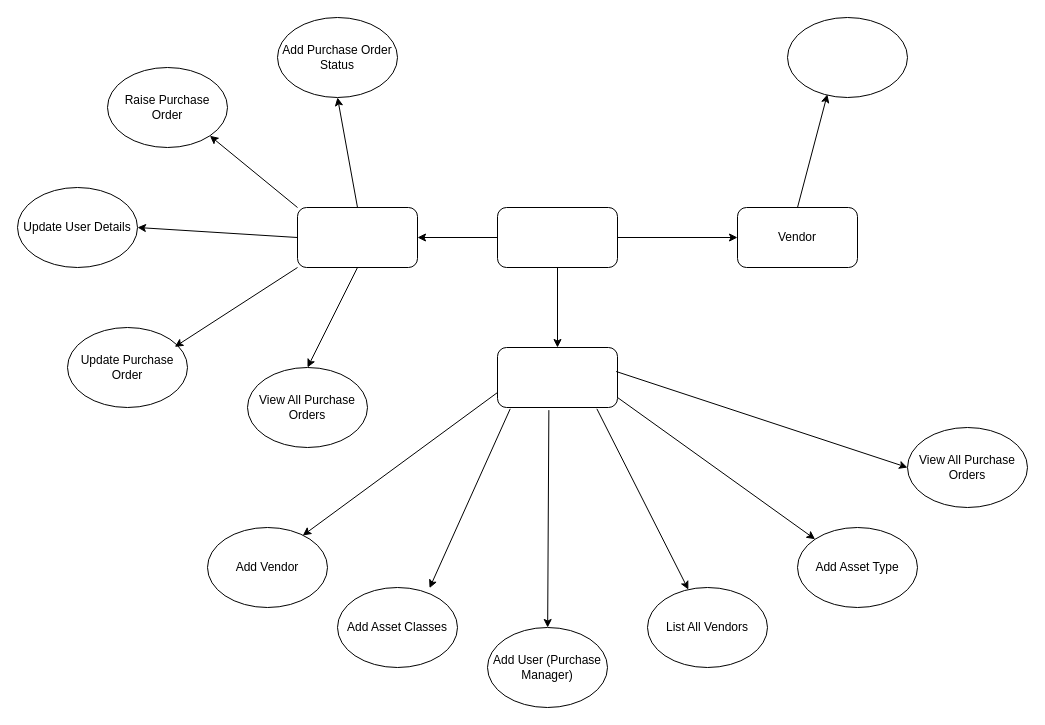
The diagram is 1045 pixels wide and 725 high, and some of its shapes have lost their labels. The shapes that lost their labels are listed below. From the top down, each one's centre as x and y in pixels, then its label:
At [847,57]: "Add Assets".
At [357,237]: "Purchase Manager".
At [557,237]: "Nissan Asset Management System".
At [557,377]: "Admin".
